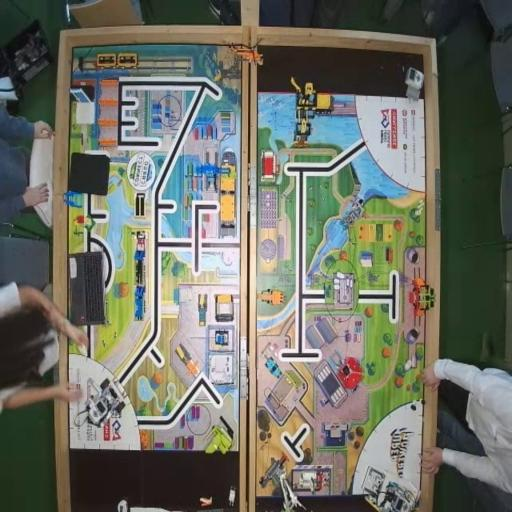lego_robot: (361, 465, 419, 512), (85, 376, 126, 429)
